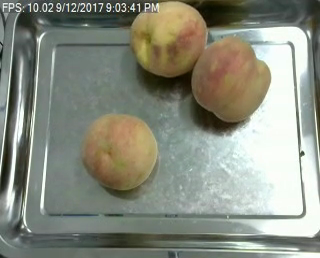Peach: (191, 37, 271, 123), (81, 112, 158, 191), (129, 0, 207, 76)
